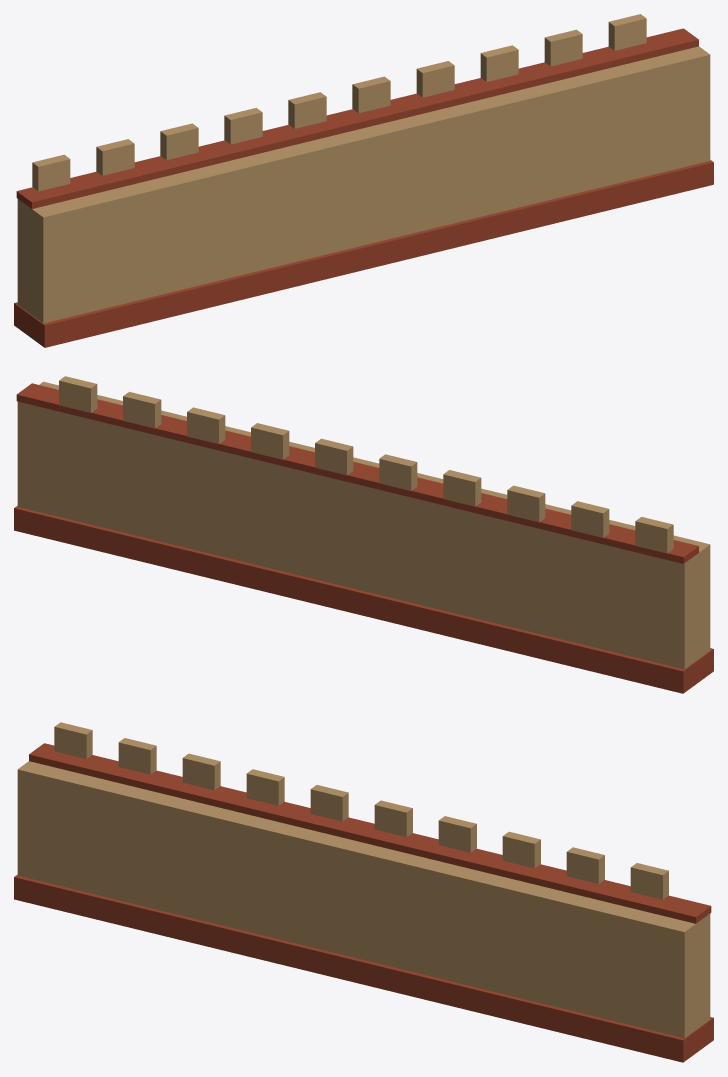
Rendered from cat_wall.glb.
The picture shows the model from 3 angles, top to bottom: view 1: azimuth 30°, elevation 25°; view 2: azimuth 150°, elevation 25°; view 3: azimuth 330°, elevation 25°; orthographic projection.
Visible parts, largest first — view 1: cat_wall; view 2: cat_wall; view 3: cat_wall.
Boxes of the visible parts, x1,y1,x2,y2 form: cat_wall: (14,14,713,347); cat_wall: (14,376,713,693); cat_wall: (14,722,713,1062).
Size of the model in its own units: 6.27 by 1.43 by 0.5.
